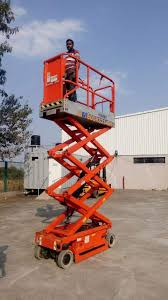Scissor Lift: (33, 51, 117, 270)
